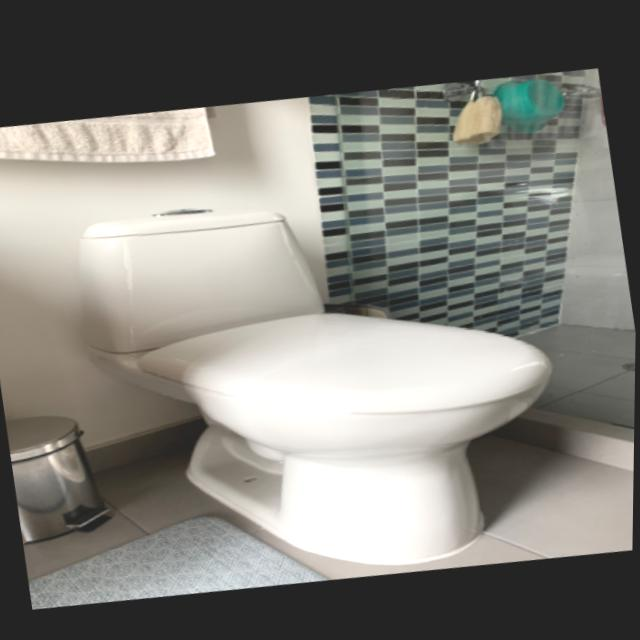toilet: (65, 149, 586, 615)
